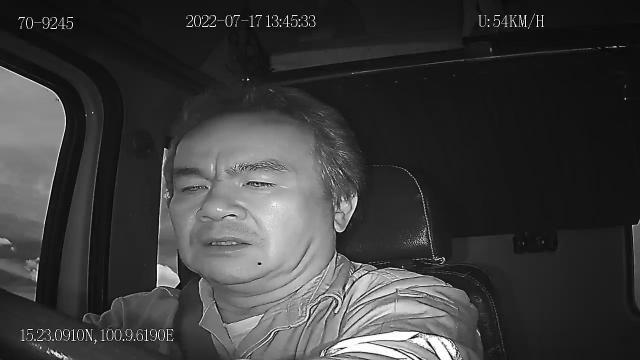SafeDriving: (234, 168, 285, 195), (172, 170, 214, 201)
Seatbelt: (171, 274, 223, 360)
